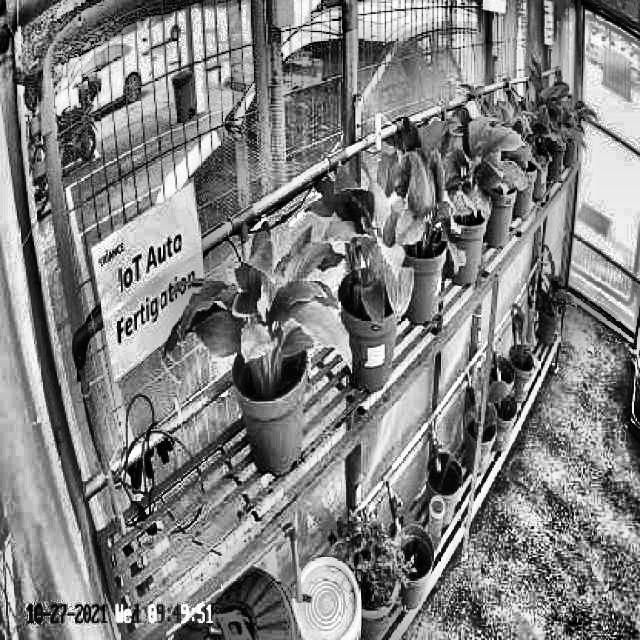plants: (158, 222, 354, 396), (308, 153, 414, 321), (365, 114, 463, 282), (419, 99, 527, 210)
